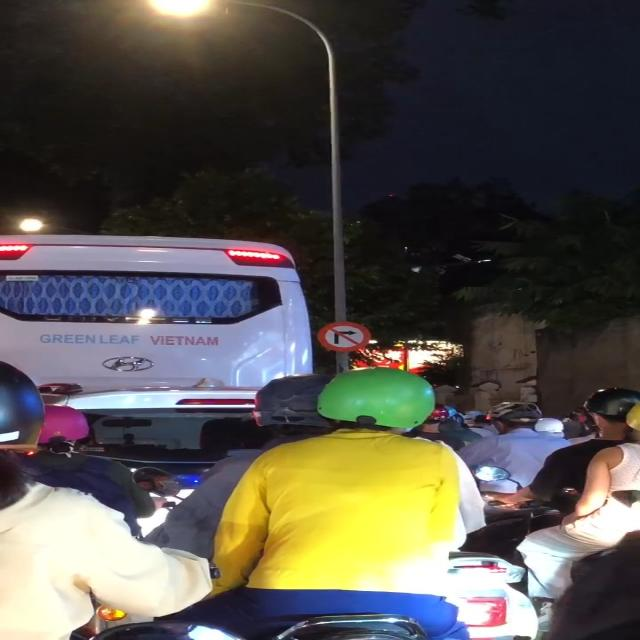Bien bao cam re phai: (316, 319, 381, 357)
